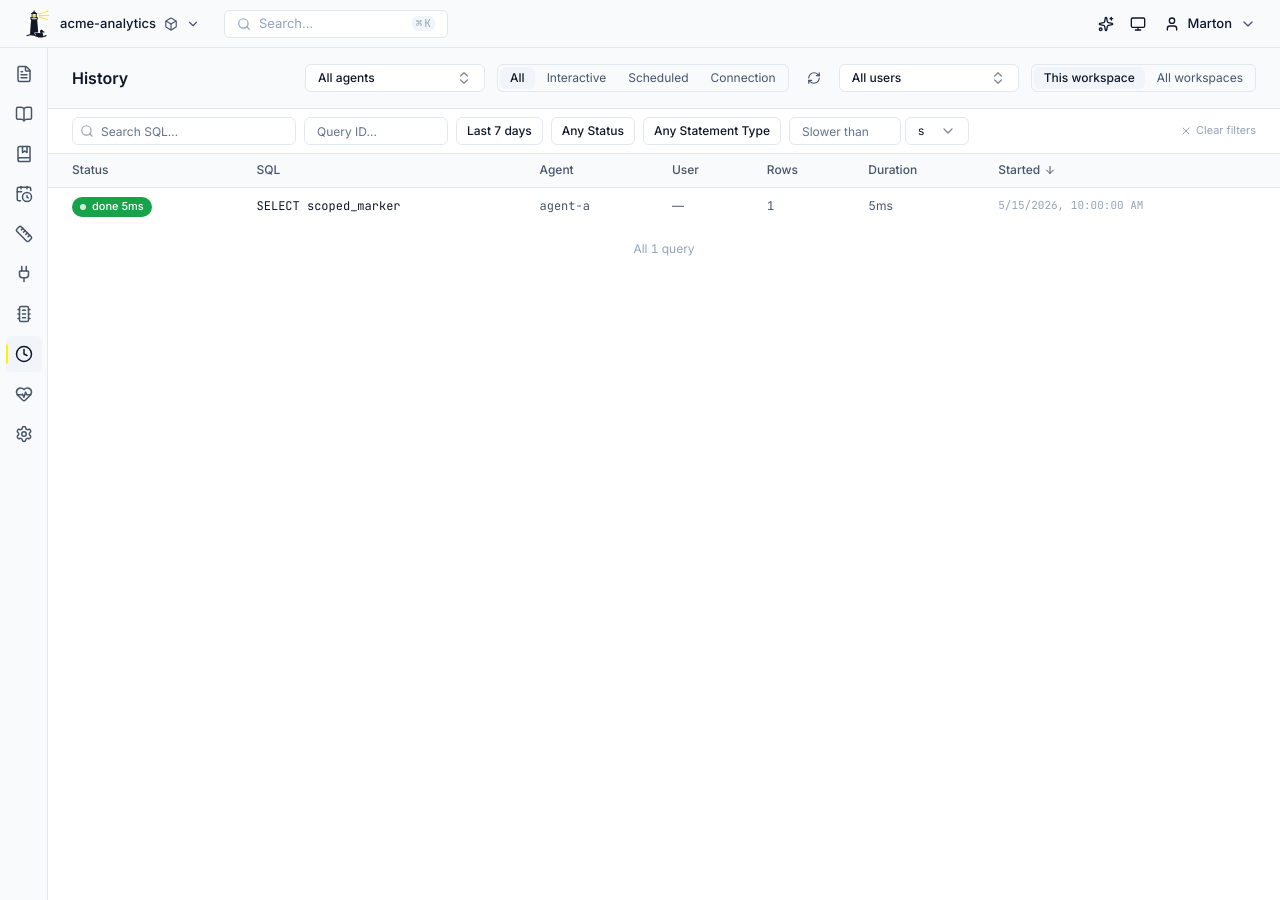
Test: HistoryPage › lets an admin switch to the cross-workspace view
Expected: the text "SELECT scoped_marker" is shown, [257, 198, 401, 214]
Click the button "All workspaces".
click(1200, 78)  # box [1147, 67, 1253, 89]
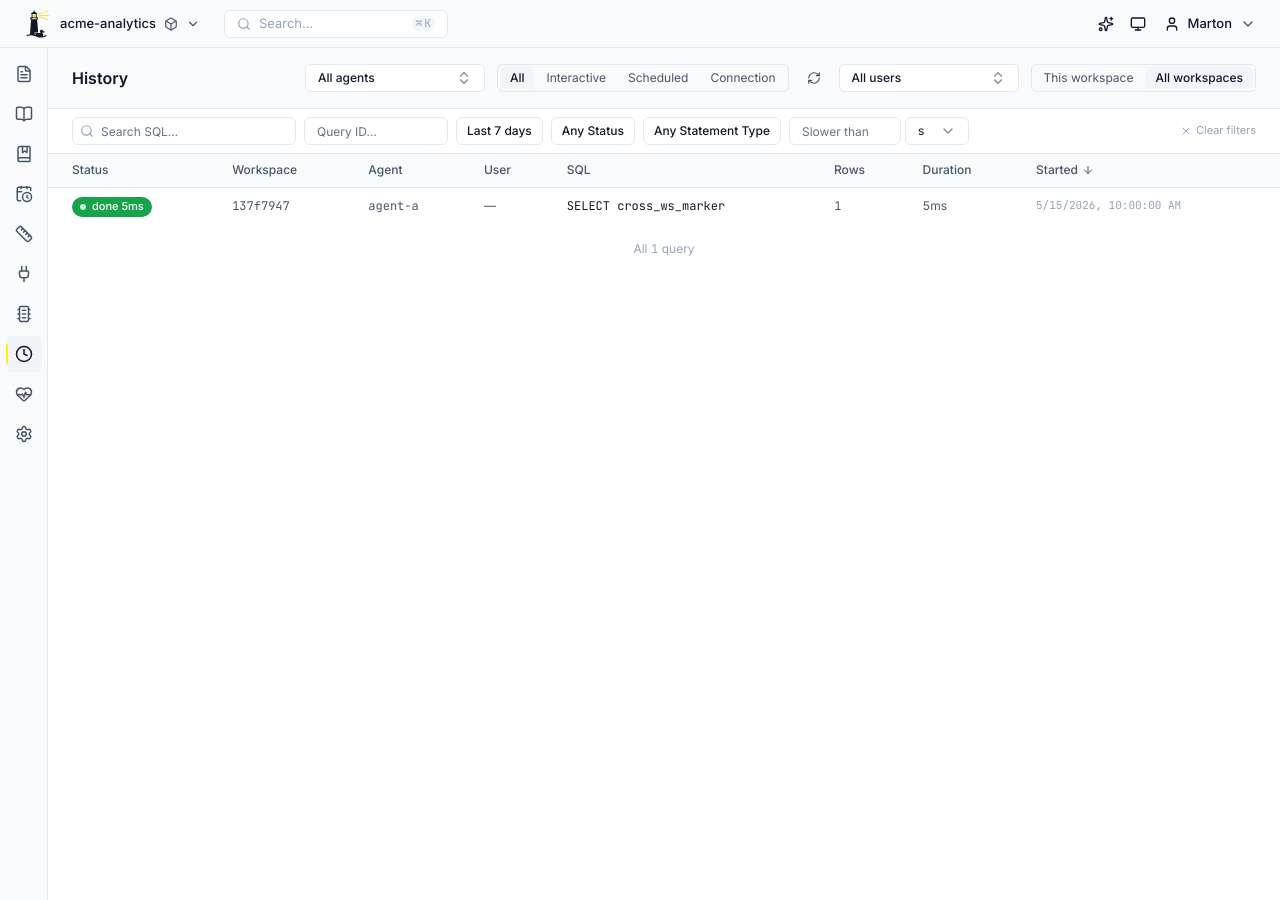
Expected: the text "SELECT cross_ws_marker" is shown, [567, 198, 725, 214]
Expected: the column heading "Workspace" is shown, [216, 154, 352, 187]
